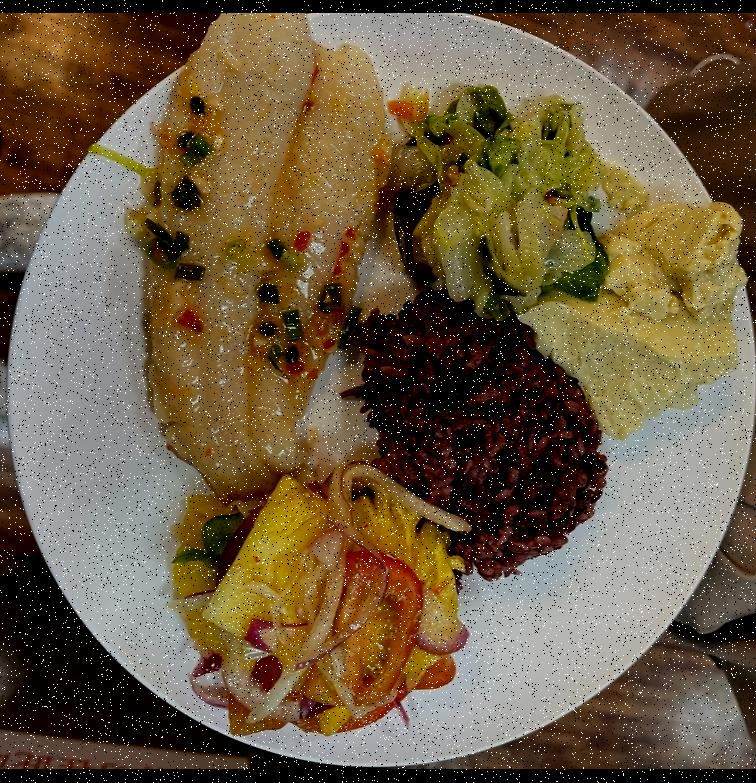plate: (0, 20, 756, 769)
purple rice: (358, 296, 610, 582)
side dish: (172, 465, 464, 736), (519, 198, 748, 424), (383, 95, 609, 316)
steamed fish fillet: (130, 29, 398, 511)
